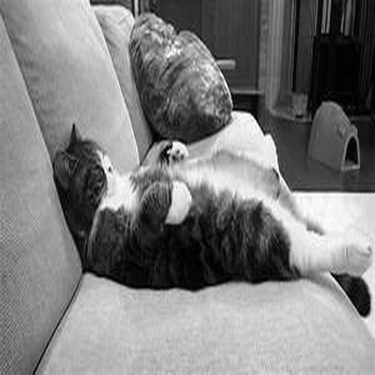cat: (51, 120, 372, 320), (129, 13, 235, 140)
